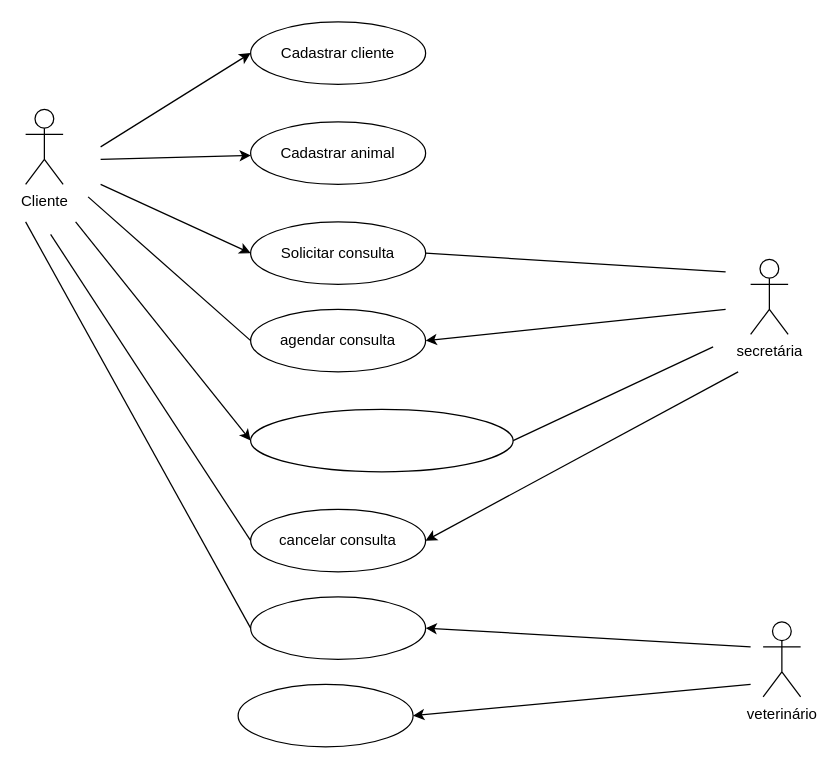
The diagram is 839 pixels wide and 769 high, and some of its shapes have lost their labels. Here are the shapes that lost their labels. From the top down, the centre of each, then its label:
At [381,440]: "Solicitar cancelamento consulta".
At [337,627]: "Enviar prescrição".
At [325,715]: "Preencher dados da consulta".
